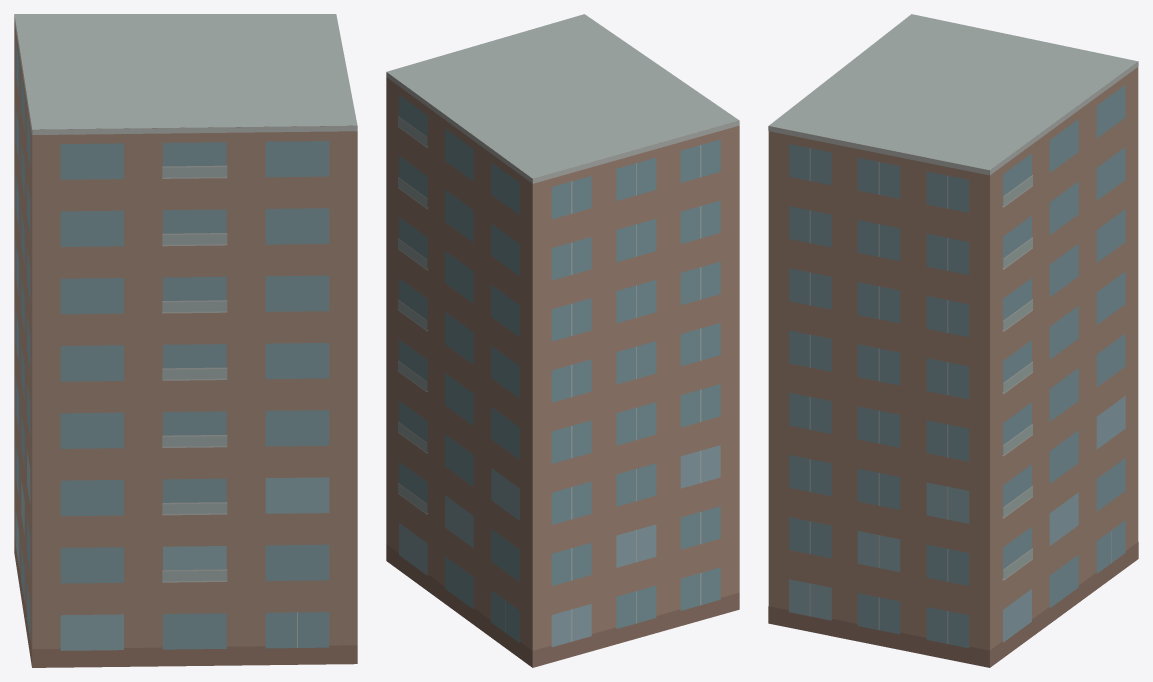
The model's file is survey-upis-32664639.glb.
3 renders of one model, left to right at view 1: azimuth 30°, elevation 25°; view 2: azimuth 150°, elevation 25°; view 3: azimuth 270°, elevation 25°, orthographic. The views are drawn at different scales.
Parts seen in each view (by area): view 1: survey-upis-32664639.tmp; view 2: survey-upis-32664639.tmp; view 3: survey-upis-32664639.tmp.
Part boxes in pixels (x1,y1,x2,y2): survey-upis-32664639.tmp: [14, 14, 357, 667]; survey-upis-32664639.tmp: [386, 14, 739, 667]; survey-upis-32664639.tmp: [768, 14, 1138, 667].
Size of the model in its own units: 15.84 by 23.5 by 15.84.
